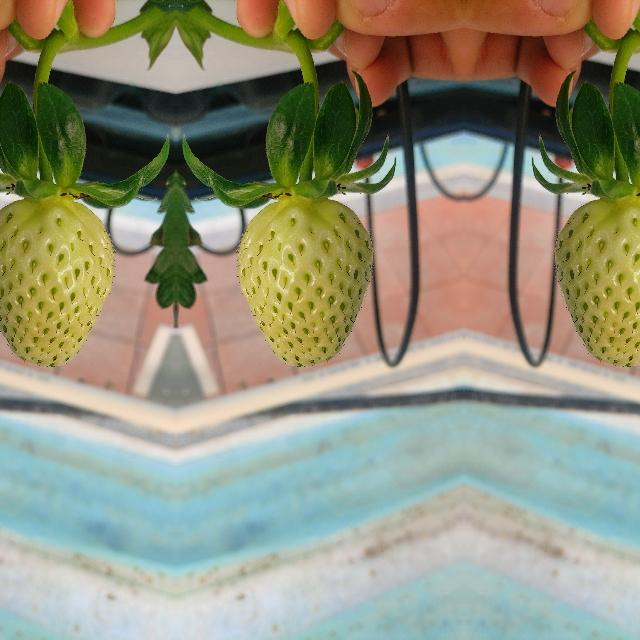Health_25: (234, 199, 374, 369), (0, 199, 115, 369), (552, 199, 640, 369)
